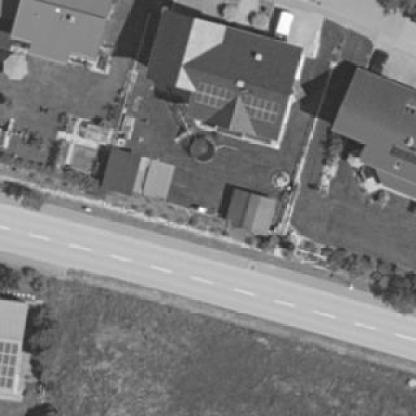solar-pv-panel: (194, 82, 279, 123), (0, 343, 18, 388)
